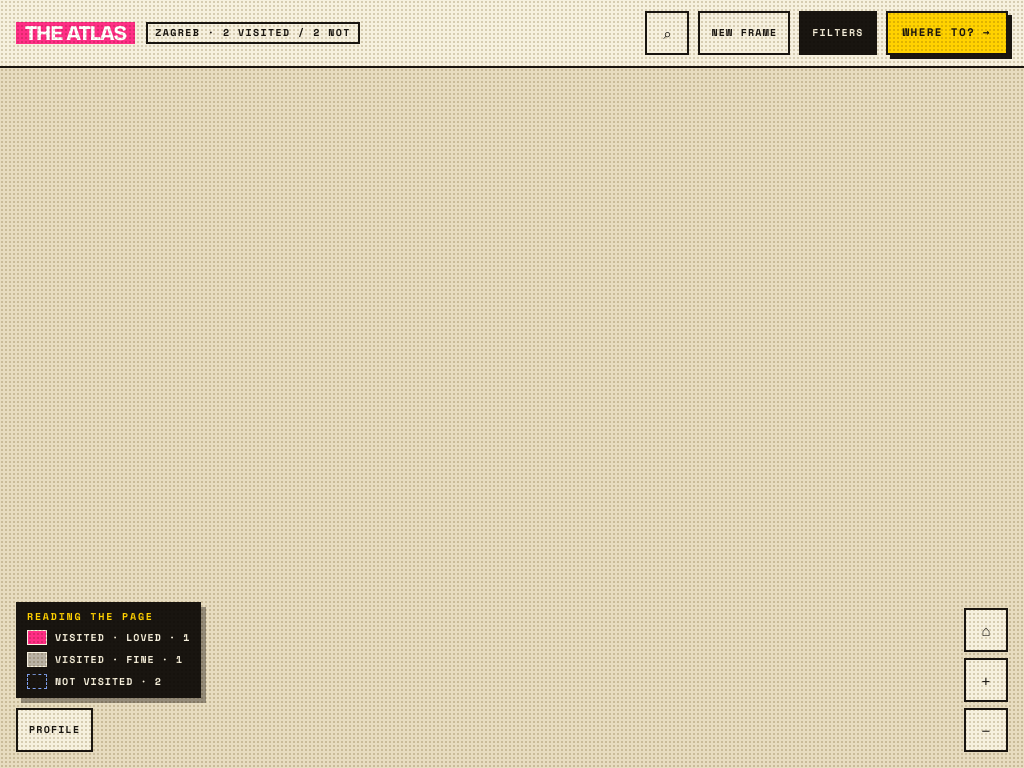
Test: AtlasScreen — New Frame flow (Task 10) › saving adds a new unprinted frame to the map and closes the form
Press the mouse on the element with test id "riso-map-container" at {"x": 512, "y": 384}, box [0,0,1023,767]
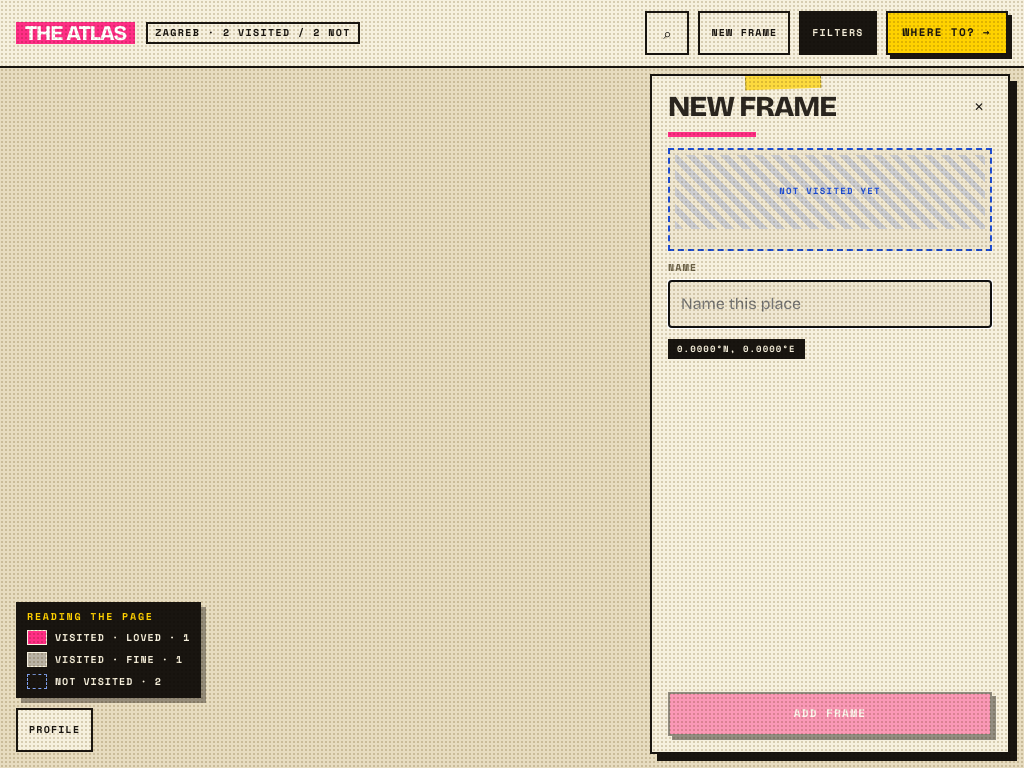
Type "Test Place" into the field with placeholder "Name this place" at {"x": 830, "y": 304}, box [668,280,992,328]
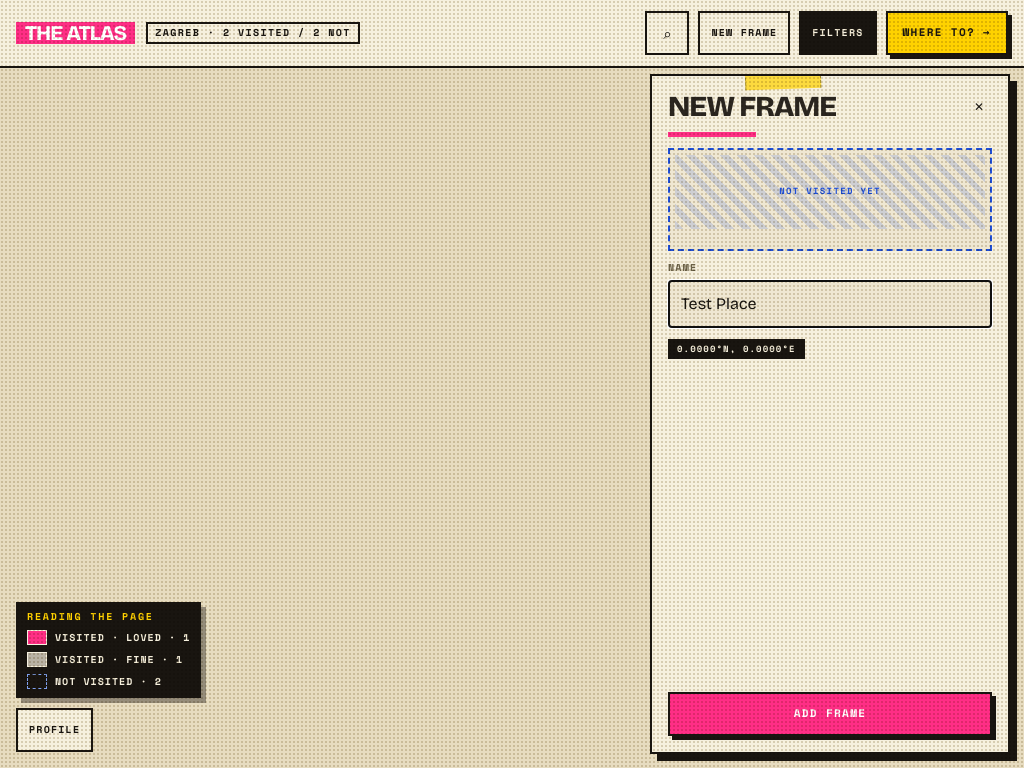
Click the button "Add Frame" at {"x": 830, "y": 714}, box [668,692,992,736]
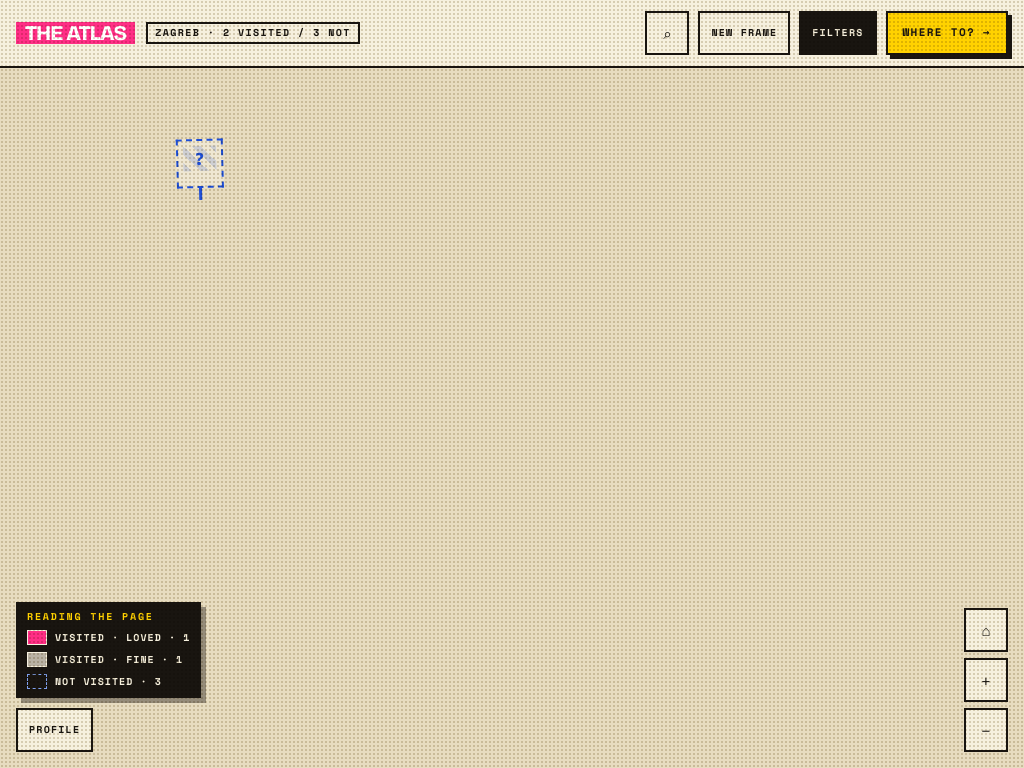
Click the button "Filters" at {"x": 838, "y": 33}, box [799,11,877,55]
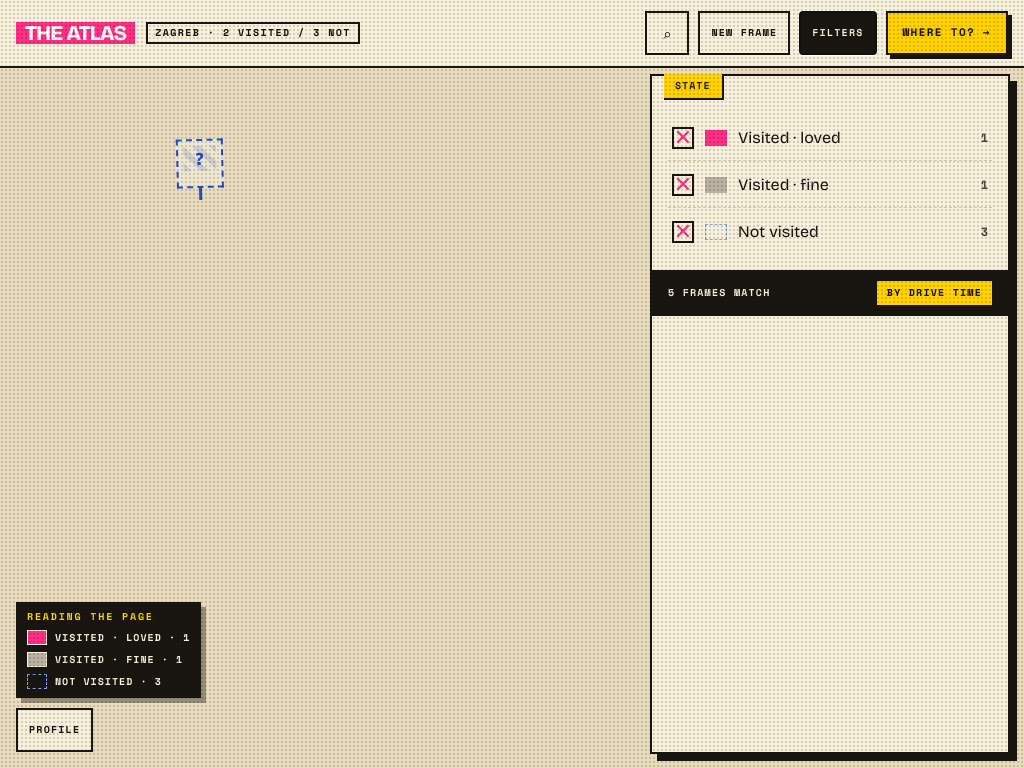
Now the text "5 frames match" is shown, box [668,287,770,299]
